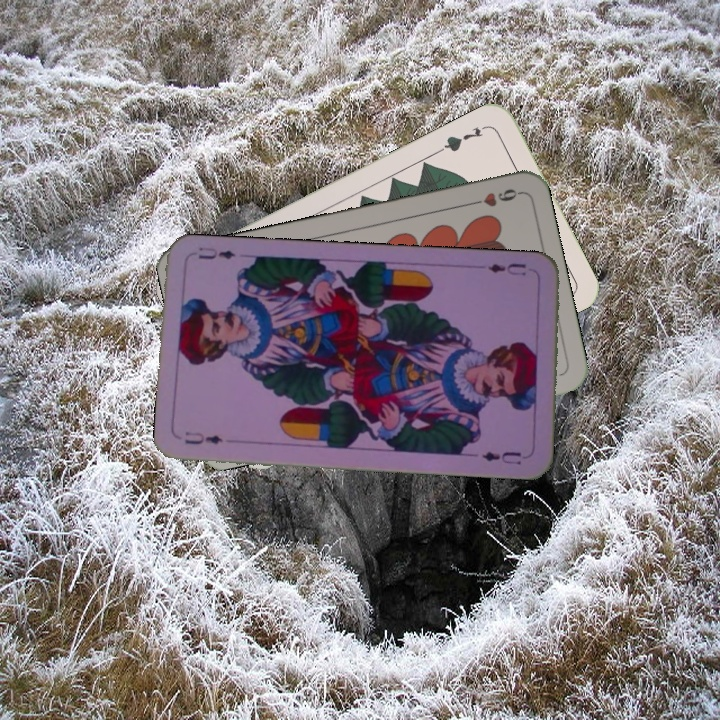EU: (180, 427, 226, 447), (483, 259, 529, 278)
G7: (436, 121, 491, 155)
H9: (464, 184, 523, 210)
